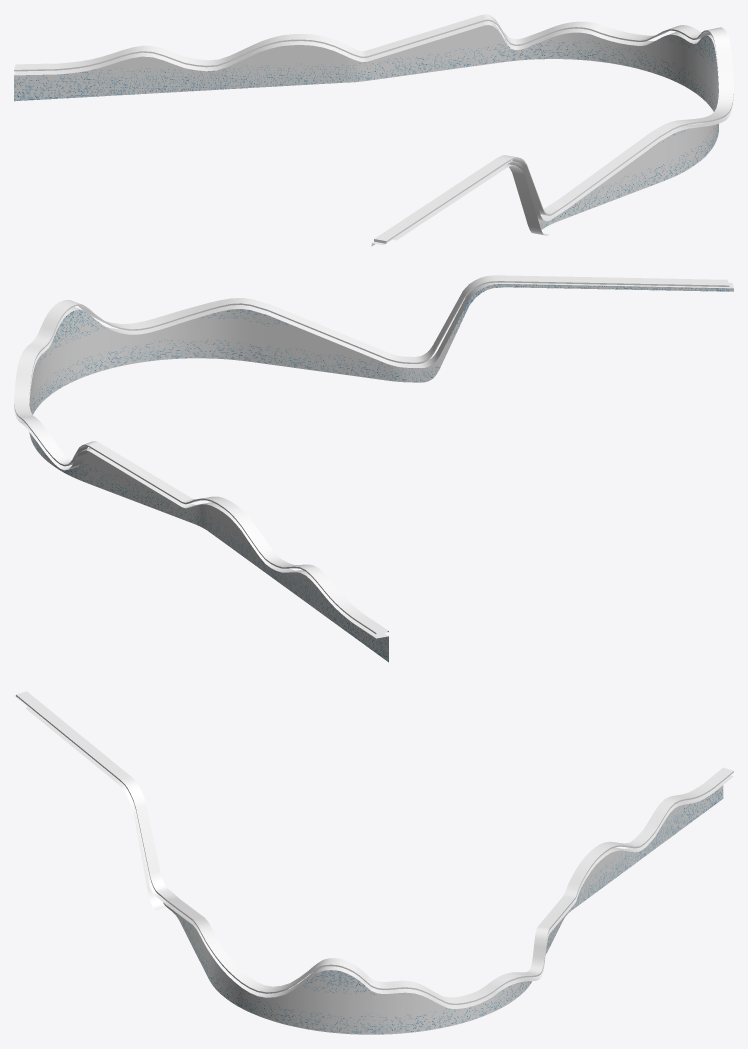
File: CD_JZ_vr_Deco01.FBX
3 views of the same model, one above another, from view 1: azimuth 30°, elevation 25°; view 2: azimuth 150°, elevation 25°; view 3: azimuth 270°, elevation 25° (orthographic).
Visible parts, largest first — view 1: CD_JZ_vr_Deco01; view 2: CD_JZ_vr_Deco01; view 3: CD_JZ_vr_Deco01.
Boxes of the visible parts, bbox=[...] form: CD_JZ_vr_Deco01: bbox=[14, 14, 733, 246]; CD_JZ_vr_Deco01: bbox=[14, 275, 733, 662]; CD_JZ_vr_Deco01: bbox=[14, 691, 733, 1034].
Size of the model in its own units: 2633 by 548 by 3145.
